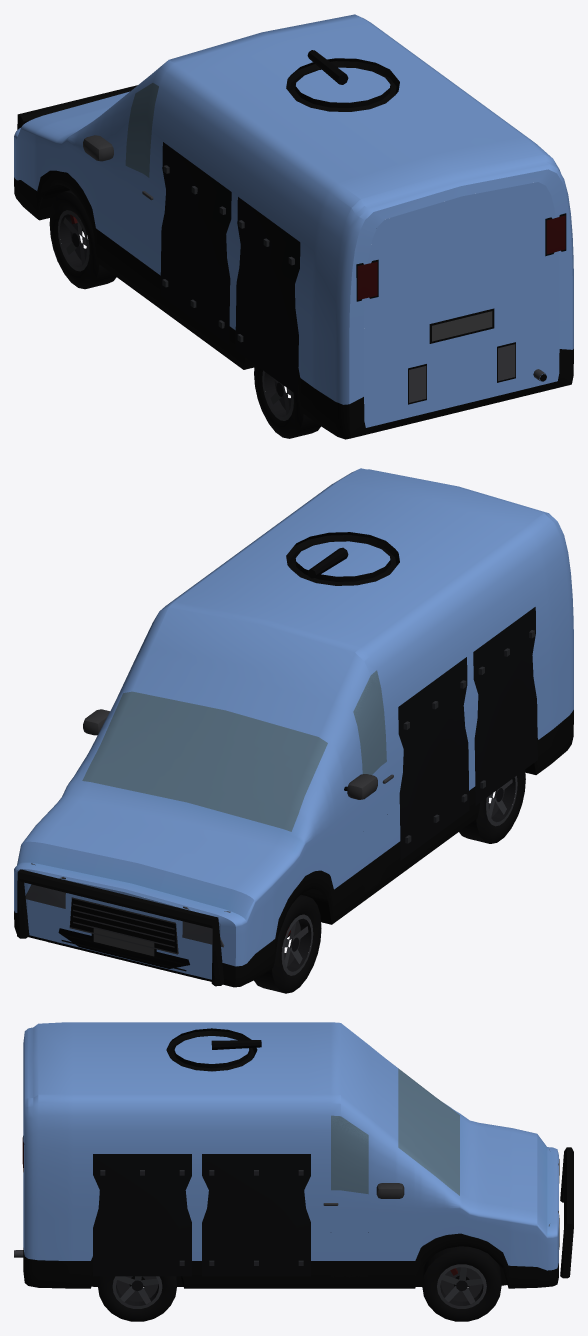
The model's file is cv2_armoured.glb.
3 renders of one model, top to bottom at view 1: azimuth 30°, elevation 25°; view 2: azimuth 150°, elevation 25°; view 3: azimuth 270°, elevation 25°, orthographic. The views are drawn at different scales.
Visible parts, largest first — view 1: Body, DoorL_Mesh; view 2: Body, DoorL_Mesh; view 3: Body, DoorR_Mesh.
Part boxes in pixels (<box>): Body: <box>14,14,573,439</box>; DoorL_Mesh: <box>125,83,158,293</box>; Body: <box>14,468,573,993</box>; DoorL_Mesh: <box>354,671,386,895</box>; Body: <box>14,1022,573,1321</box>; DoorR_Mesh: <box>331,1116,368,1281</box>.
Size of what is drawn, in the model's own units: 2.61 by 2.66 by 5.64.
